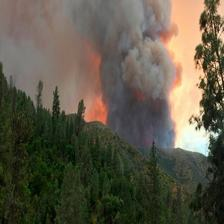fire: (74, 58, 186, 150)
